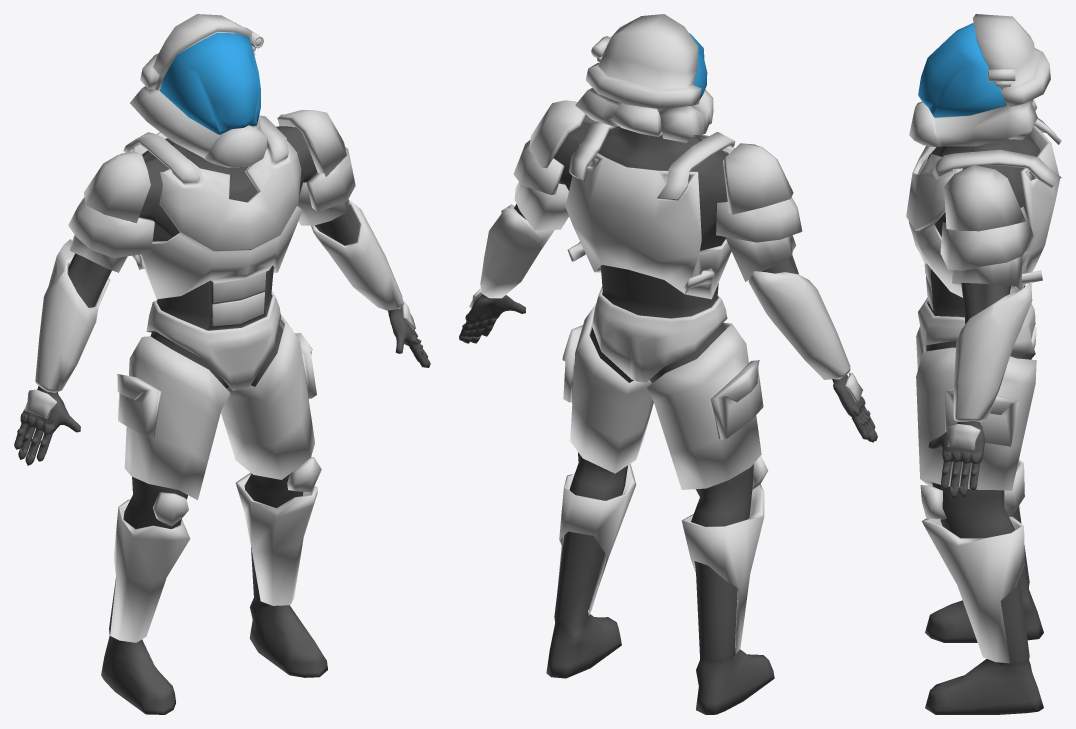
The model's file is PropAstronautModel.fbx.
The picture shows the model from 3 angles, left to right: view 1: azimuth 30°, elevation 25°; view 2: azimuth 150°, elevation 25°; view 3: azimuth 270°, elevation 25°; orthographic projection.
Parts seen in each view (by area): view 1: UnderSuit, UpperLegs, Torso, Helmet, LowerLegs, ShoulderPads, Arms, KneePads, UpperArms, WristPads; view 2: UnderSuit, UpperLegs, Torso, Helmet, ShoulderPads, Arms, LowerLegs, UpperArms; view 3: UnderSuit, Helmet, UpperLegs, Torso, LowerLegs, ShoulderPads, Arms, UpperArms, WristPads, KneePads.
Part boxes in pixels (box(x1,y1,x2,y2)): UnderSuit: box(14, 126, 430, 714); UpperLegs: box(117, 314, 316, 500); Torso: box(123, 115, 302, 299); Helmet: box(130, 14, 267, 167); LowerLegs: box(110, 472, 317, 642); ShoulderPads: box(68, 110, 355, 257); Arms: box(35, 200, 403, 392); KneePads: box(153, 456, 321, 526); UpperArms: box(69, 173, 349, 272); WristPads: box(24, 301, 415, 418); UnderSuit: box(459, 121, 877, 714); UpperLegs: box(562, 303, 763, 489); Torso: box(565, 121, 735, 299); Helmet: box(575, 14, 713, 142); ShoulderPads: box(513, 100, 802, 242); Arms: box(480, 204, 850, 379); LowerLegs: box(557, 464, 764, 653); UpperArms: box(514, 182, 795, 281); UnderSuit: box(918, 134, 1043, 714); Helmet: box(909, 14, 1050, 146); UpperLegs: box(916, 326, 1036, 490); Torso: box(906, 118, 1061, 297); LowerLegs: box(921, 459, 1024, 663); ShoulderPads: box(940, 165, 1033, 270); Arms: box(953, 282, 1032, 421); UpperArms: box(952, 256, 1022, 292); WristPads: box(947, 424, 980, 450); KneePads: box(920, 485, 946, 519).
Bounding box in the file's own units: 255 × 390 × 84.31.
